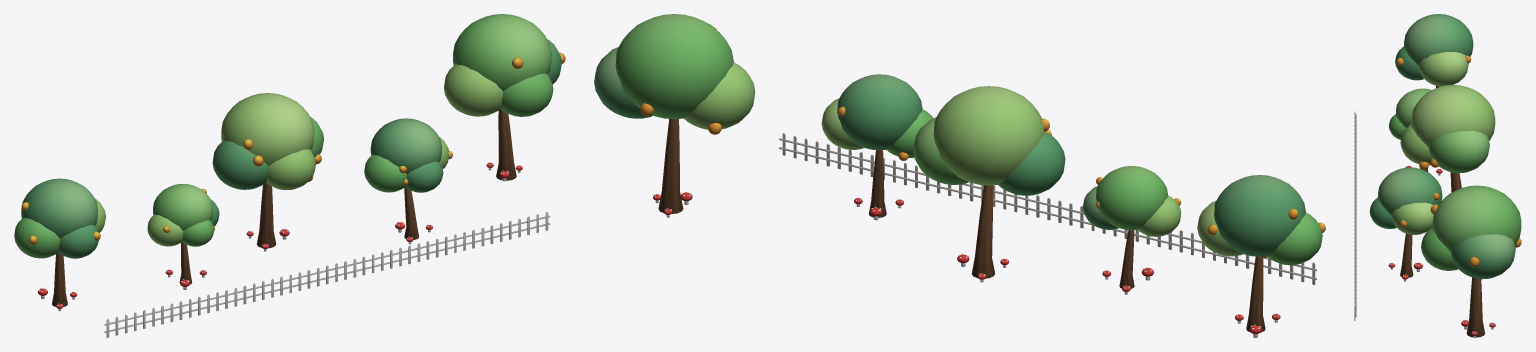
The model's file is storybook-orchard.glb.
3 renders of one model, left to right at view 1: azimuth 30°, elevation 25°; view 2: azimuth 150°, elevation 25°; view 3: azimuth 270°, elevation 25°, orthographic. The views are drawn at different scales.
Visible parts, largest first — view 1: storybook-orchard; view 2: storybook-orchard; view 3: storybook-orchard.
Part boxes in pixels (box(x1,y1,x2,y2)): storybook-orchard: box(14, 14, 565, 337); storybook-orchard: box(594, 14, 1325, 337); storybook-orchard: box(1354, 14, 1521, 337).
Bounding box in the file's own units: 34.31 × 9.04 × 9.66.
